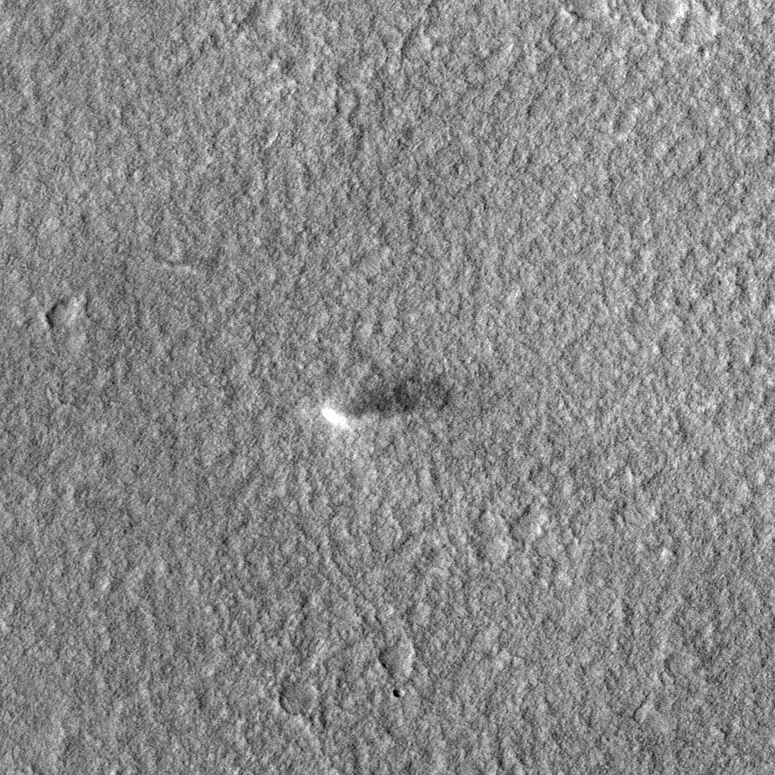dust_devil: (320, 371, 451, 429)
